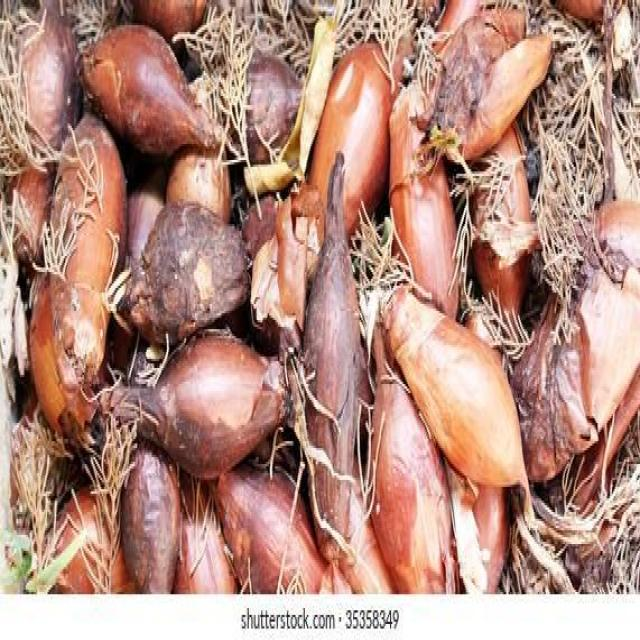Onion: (380, 283, 533, 532), (514, 208, 639, 478), (100, 329, 296, 476), (298, 144, 363, 567), (409, 0, 554, 169), (368, 326, 457, 595), (52, 103, 126, 402), (306, 33, 406, 248), (77, 22, 220, 152), (121, 201, 249, 334), (389, 82, 459, 322), (212, 469, 324, 594), (471, 126, 532, 338), (28, 277, 99, 457), (208, 58, 306, 166), (116, 446, 182, 594), (45, 486, 134, 593), (11, 2, 72, 156), (242, 194, 298, 352), (336, 459, 393, 599), (449, 464, 508, 592), (175, 486, 240, 595), (166, 137, 230, 220), (6, 159, 49, 264), (128, 161, 168, 260), (136, 2, 207, 34), (553, 0, 614, 21)
